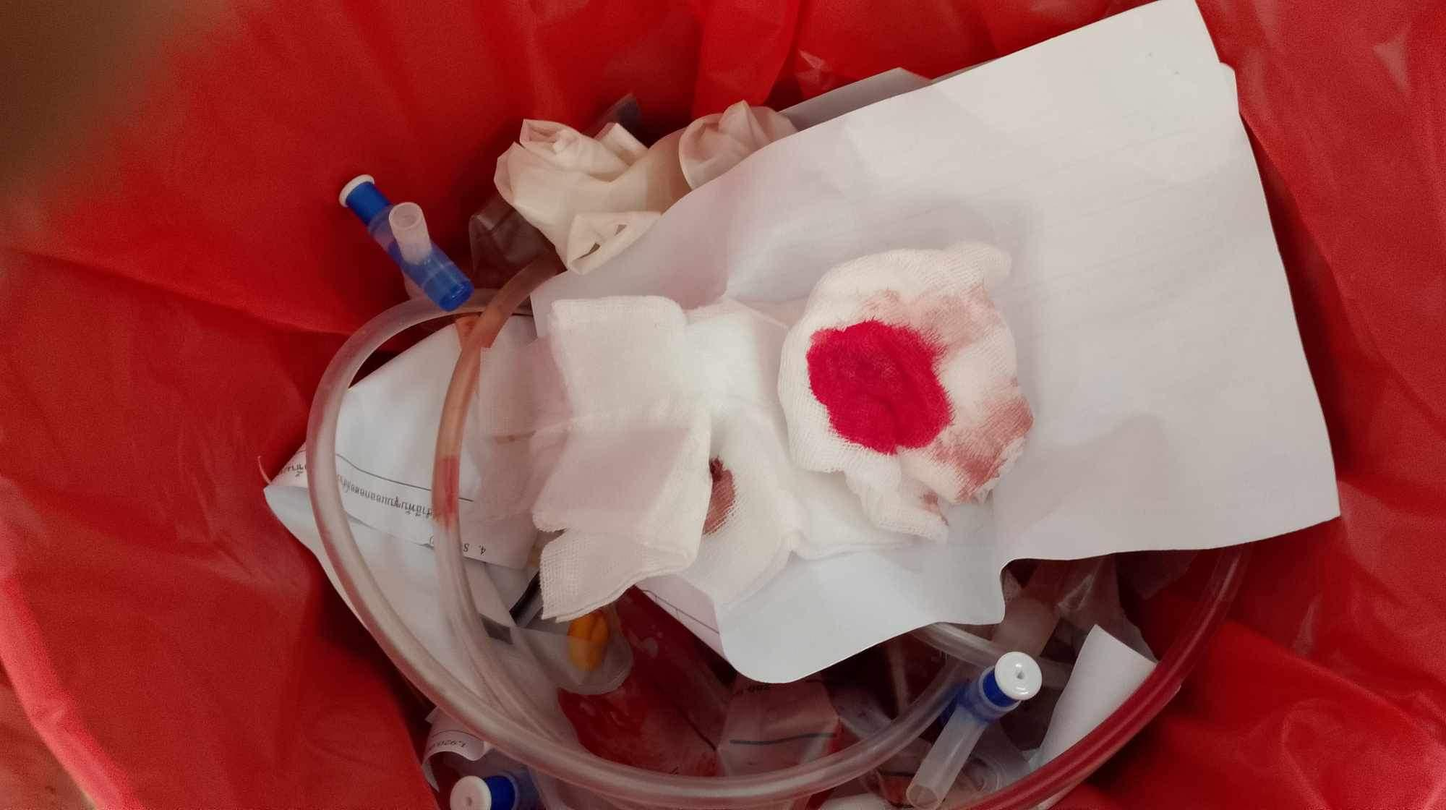General: (260, 4, 1341, 806), (315, 93, 1043, 688)
Infectious: (776, 239, 1034, 544)
Sharps: (902, 649, 1043, 807), (337, 171, 475, 313)
